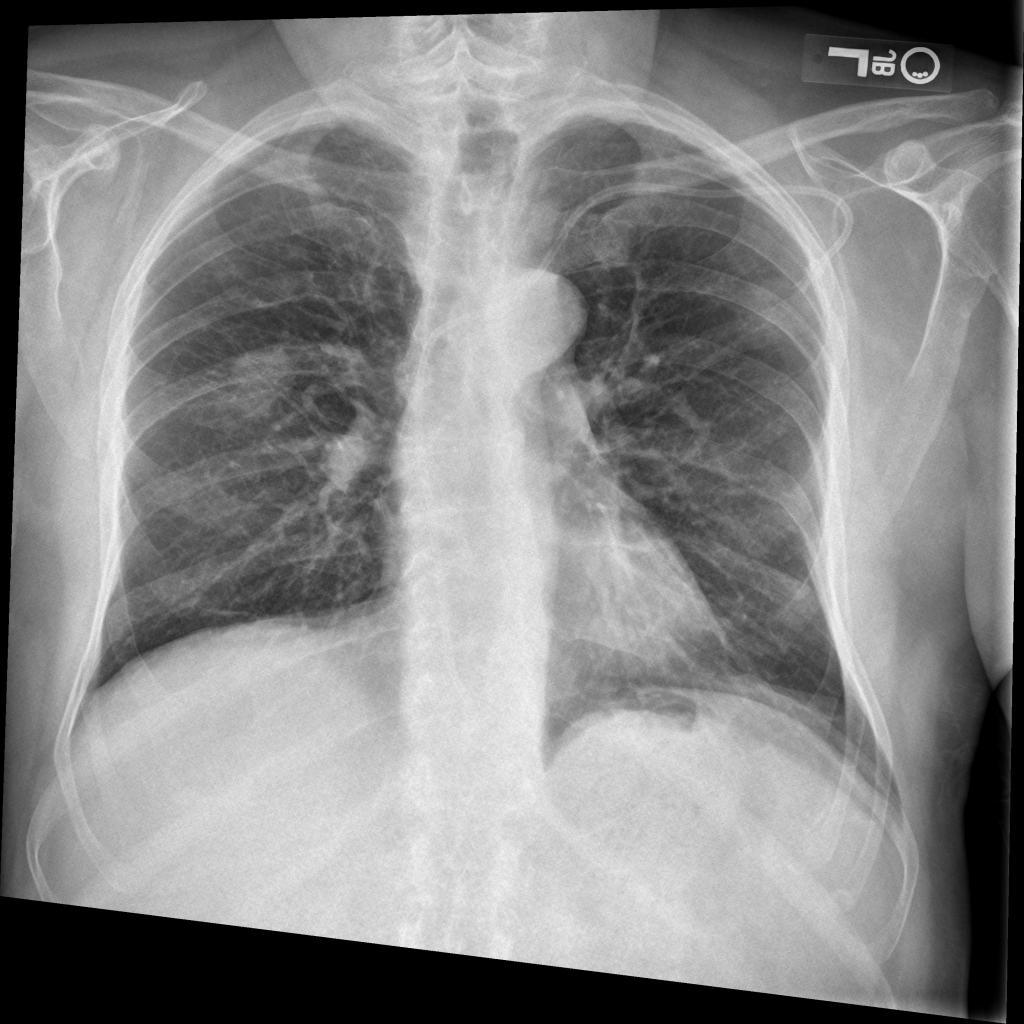Nodule: (89, 125, 110, 147), (109, 63, 123, 71)
